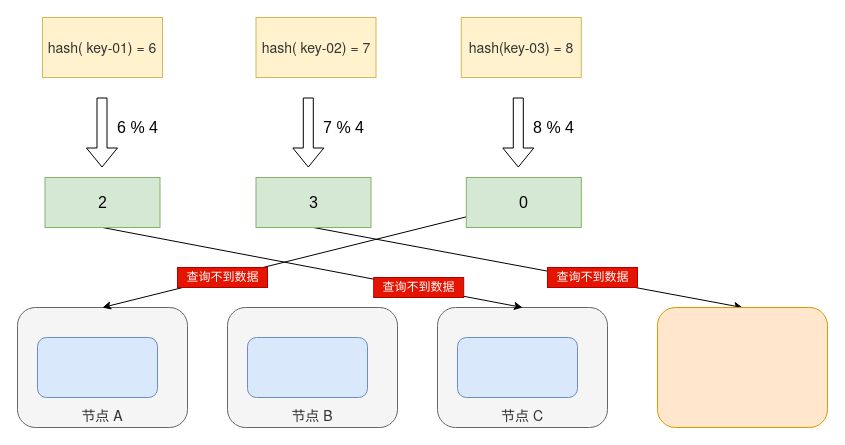
Image size: 845x445. Some labels were removed from this diagram. The centre of each missing label's shape, as x and y in pixels:
key-01 数据: (x=97, y=367)
key-02 数据: (x=307, y=367)
key-03 数据: (x=517, y=367)
新节点 D: (x=742, y=367)
